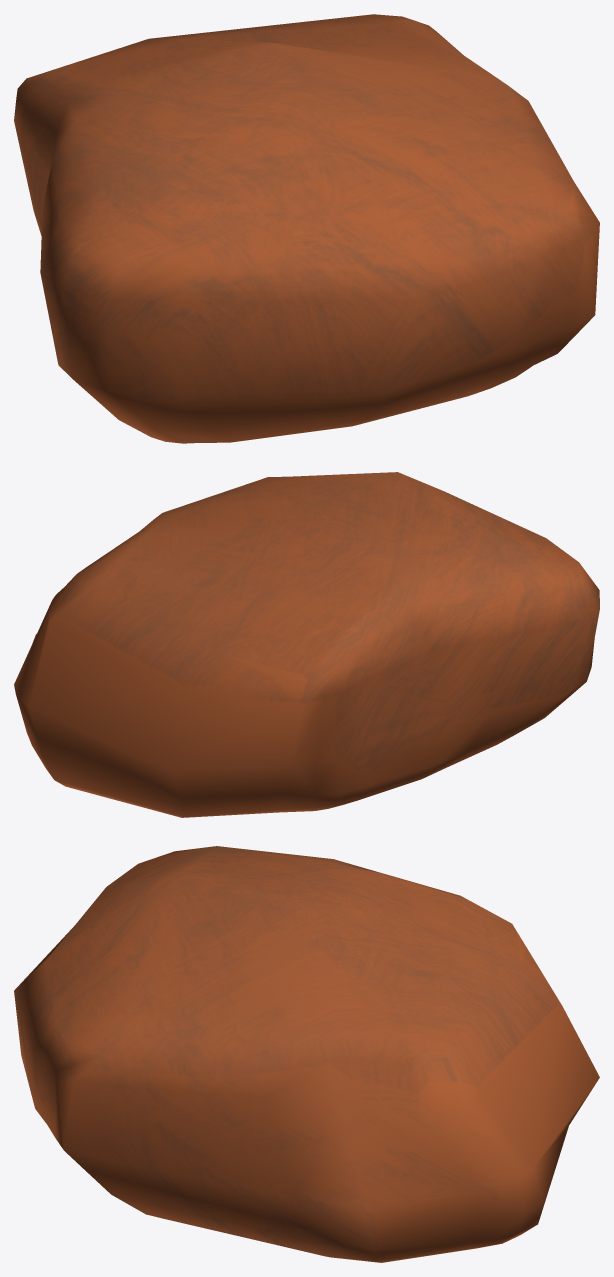
Rendered from Pedra2.fbx.
The picture shows the model from 3 angles, top to bottom: view 1: azimuth 30°, elevation 25°; view 2: azimuth 150°, elevation 25°; view 3: azimuth 270°, elevation 25°; orthographic projection. The views are drawn at different scales.
Visible parts, largest first — view 1: Pedra4; view 2: Pedra4; view 3: Pedra4.
Boxes of the visible parts, x1,y1,x2,y2 form: Pedra4: [14, 14, 599, 443]; Pedra4: [14, 472, 599, 817]; Pedra4: [14, 846, 599, 1262].
Size of the model in its own units: 1.92 by 0.9504 by 1.9.
